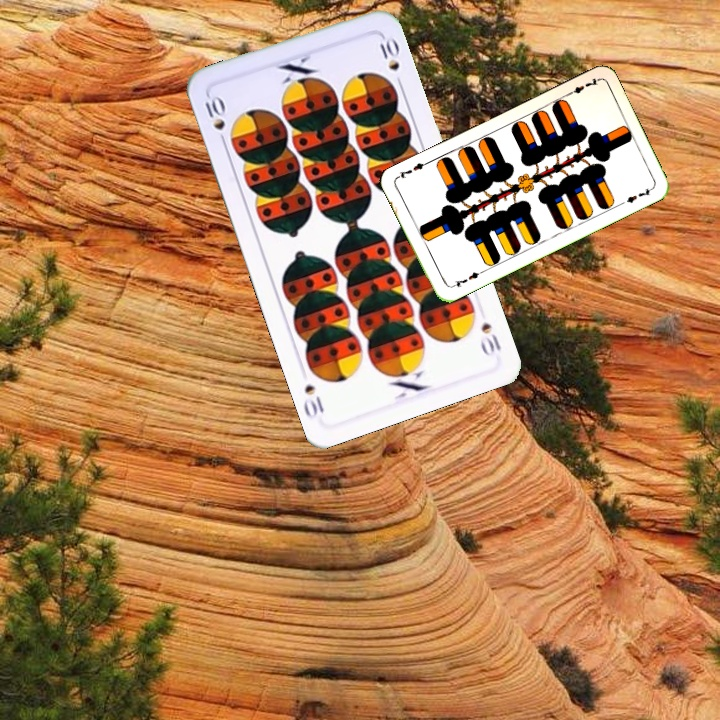E7: (563, 74, 601, 99), (447, 267, 485, 290)
S10: (201, 92, 229, 149), (476, 318, 504, 359)
